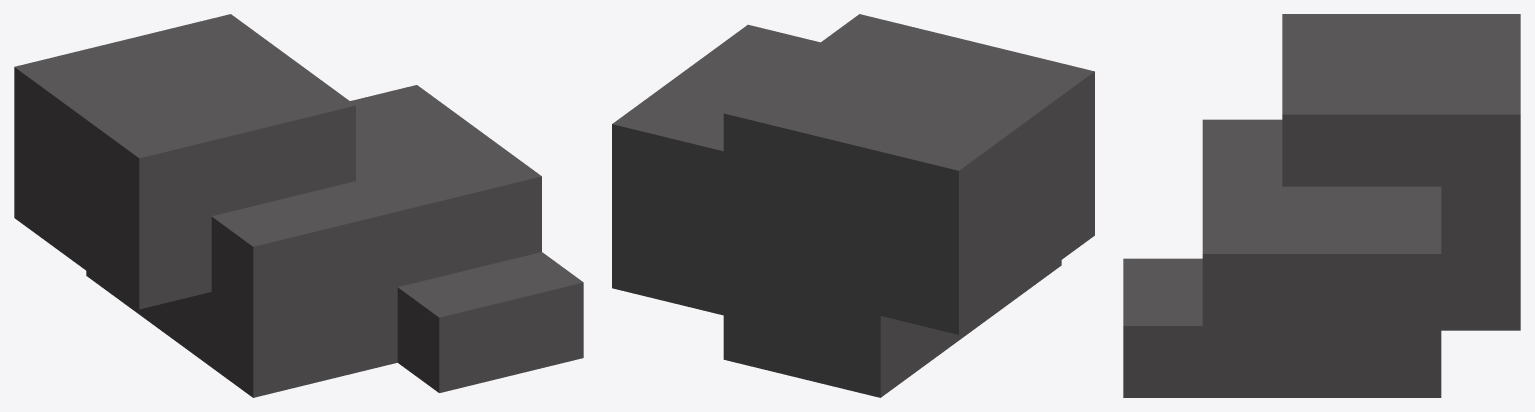
Rendered from seal__fin_l.glb.
3 renders of one model, left to right at view 1: azimuth 30°, elevation 25°; view 2: azimuth 150°, elevation 25°; view 3: azimuth 270°, elevation 25°, orthographic. The views are drawn at different scales.
Parts seen in each view (by area): view 1: seal__fin_l; view 2: seal__fin_l; view 3: seal__fin_l.
Boxes of the visible parts, x1,y1,x2,y2 form: seal__fin_l: [14, 14, 583, 397]; seal__fin_l: [612, 14, 1094, 397]; seal__fin_l: [1123, 14, 1520, 397].
Size of the model in its own units: 0.5 by 0.3 by 0.5.
1 material, 1 textured.
